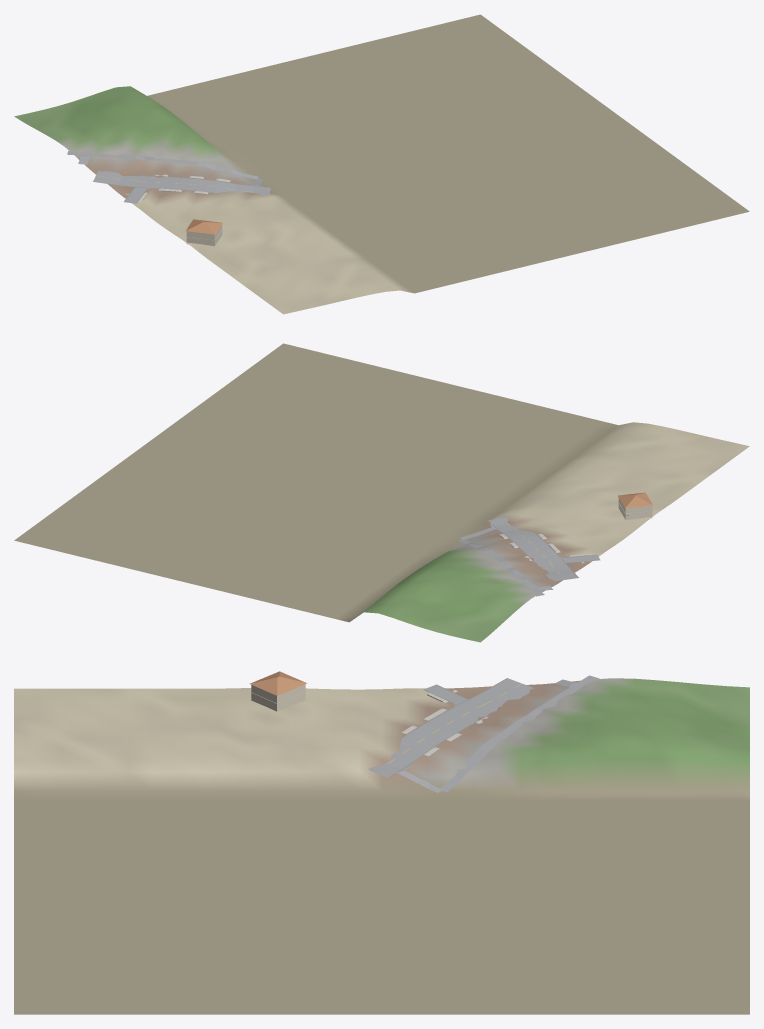
3 views of the same model, one above another, from view 1: azimuth 30°, elevation 25°; view 2: azimuth 150°, elevation 25°; view 3: azimuth 270°, elevation 25° (orthographic). The views are drawn at different scales.
Visible parts, largest first — view 1: Terrain-col, Roads-col, Buildings-col; view 2: Terrain-col, Roads-col, Buildings-col; view 3: Terrain-col, Roads-col, Buildings-col.
Boxes of the visible parts, <box> form: Terrain-col: <box>14,14,749,314</box>; Roads-col: <box>67,150,270,203</box>; Buildings-col: <box>186,219,222,246</box>; Terrain-col: <box>14,343,749,642</box>; Roads-col: <box>458,517,600,596</box>; Buildings-col: <box>618,492,652,520</box>; Terrain-col: <box>14,678,749,1014</box>; Roads-col: <box>368,675,599,792</box>; Buildings-col: <box>249,671,306,711</box>.
Bounding box in the file's own units: 261 × 14.81 × 256.
